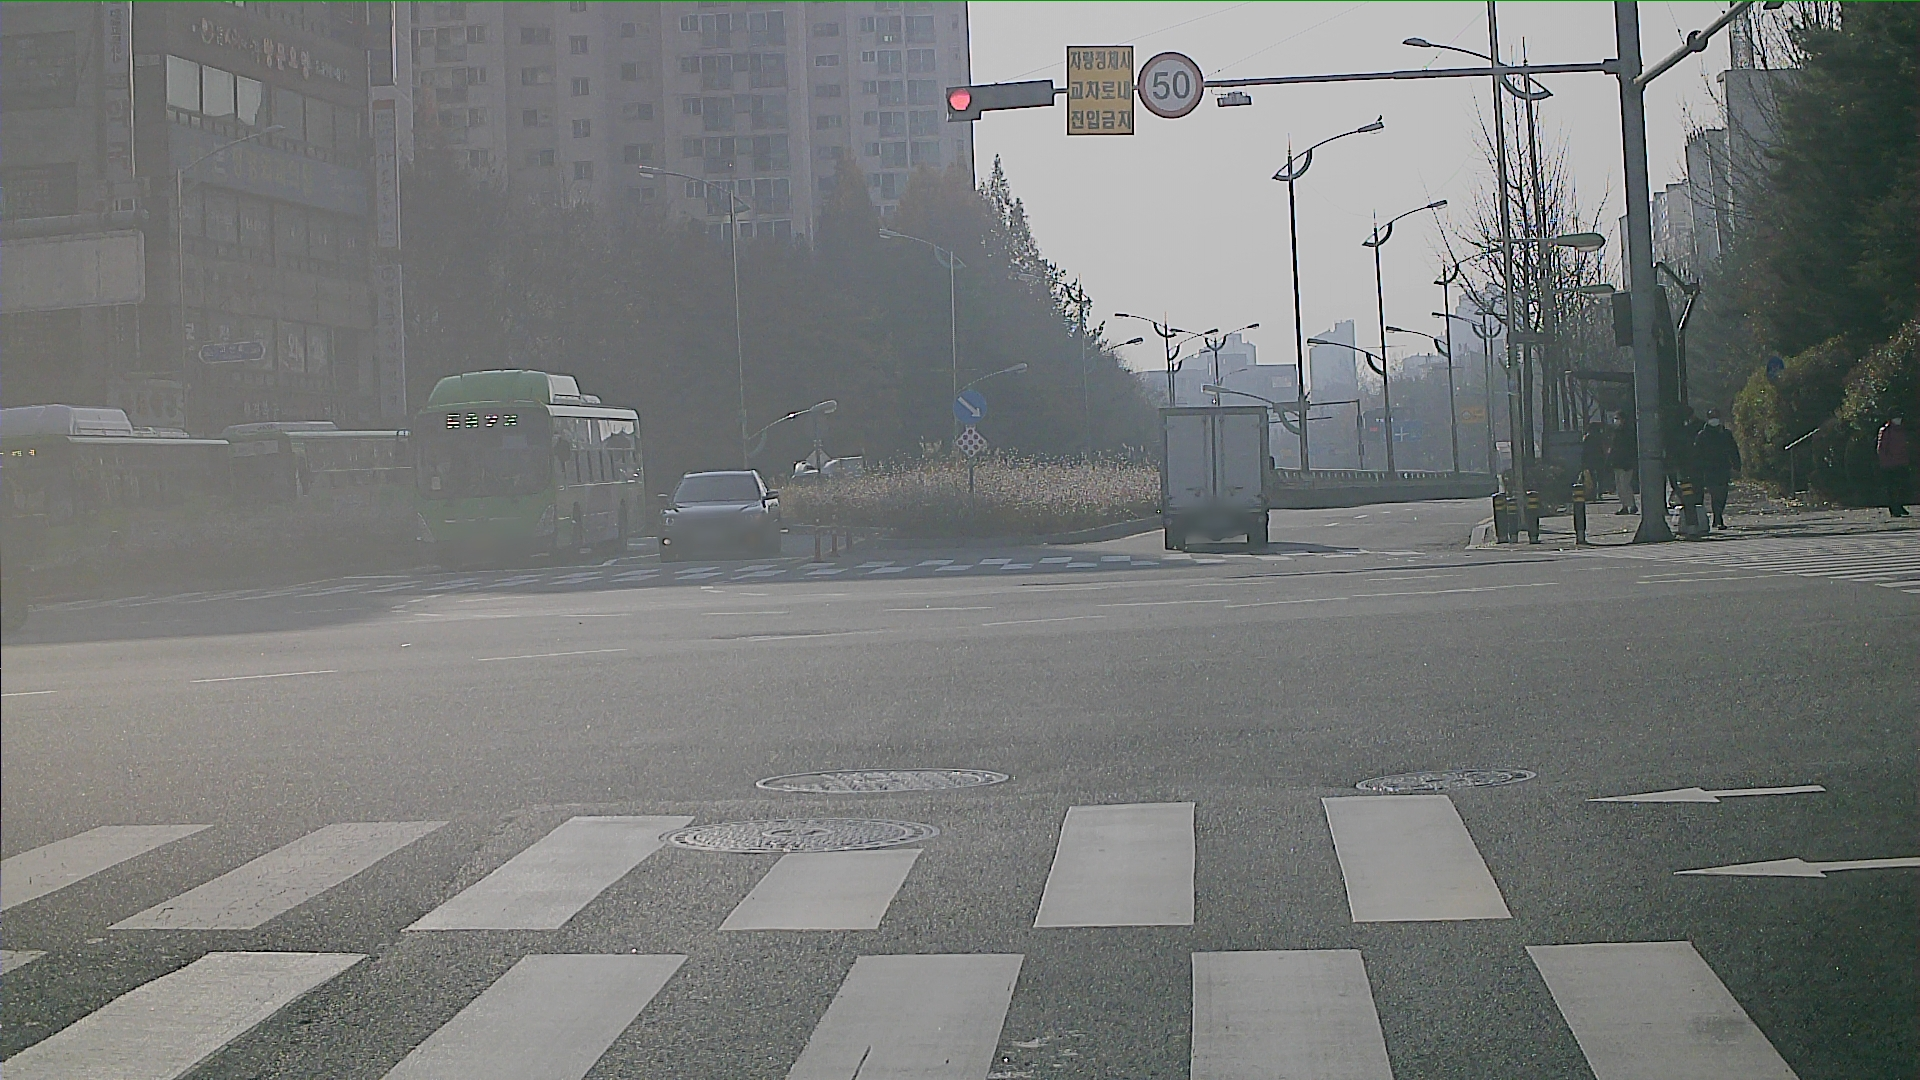trafficLight: (939, 76, 1055, 113)
trafficSignCircle: (1135, 53, 1203, 120), (955, 386, 988, 425)
